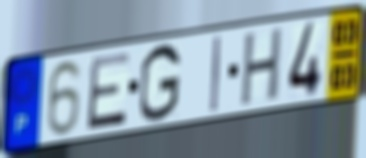4: (286, 18, 323, 100)
6: (44, 57, 84, 139)
E: (84, 49, 133, 133)
G: (137, 42, 184, 125)
H: (238, 24, 285, 110)
I: (208, 34, 223, 115)
